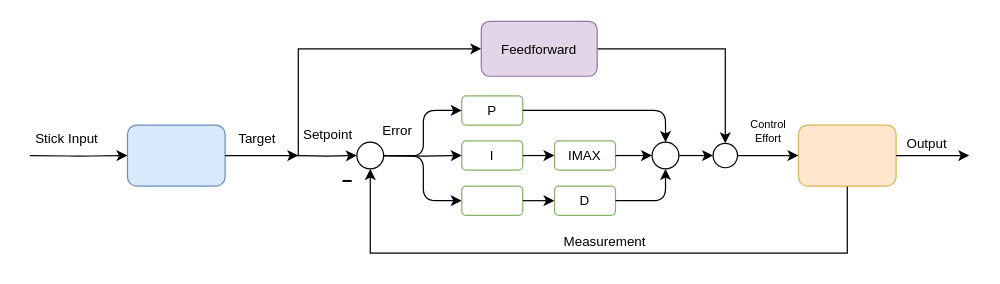
Image size: 1000x284. Some labels were removed from this diagram. Here are the shapes that lost their labels. From the top down, the centre of each, then its label:
(x=175, y=155): Setpoint Scaling
(x=846, y=155): Plant
(x=492, y=200): D filter
